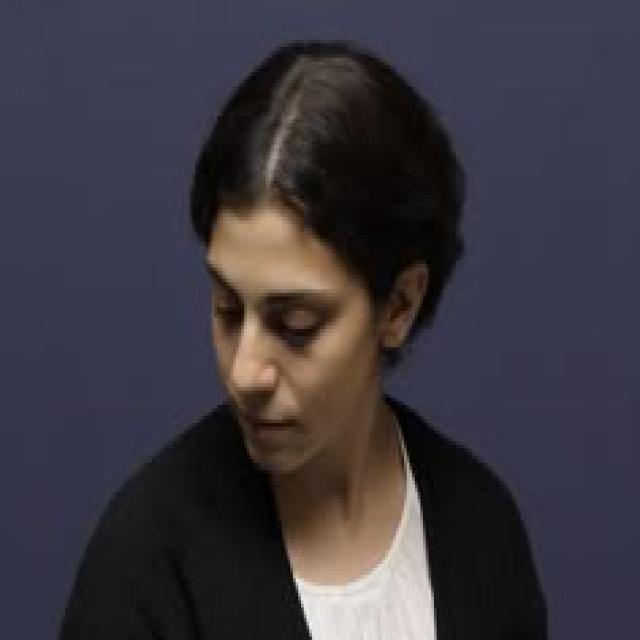9_cabeza_baja: (190, 41, 464, 472)
